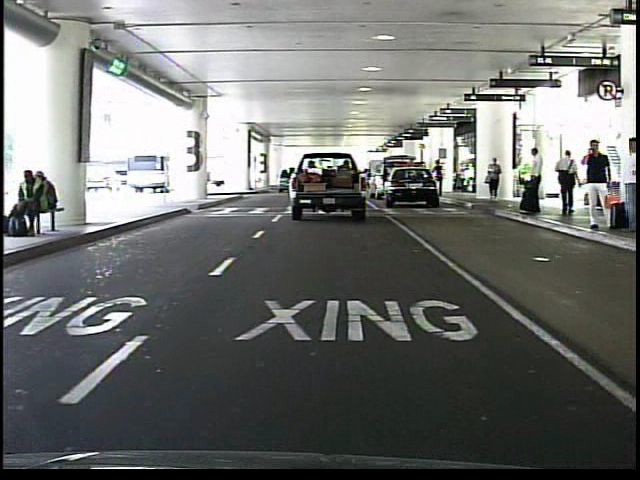person: (578, 138, 617, 236), (618, 135, 639, 237), (519, 145, 546, 219), (555, 145, 582, 218), (485, 156, 505, 205), (433, 159, 446, 201)
